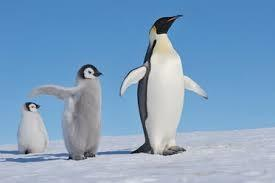emporer: (115, 11, 216, 157)
